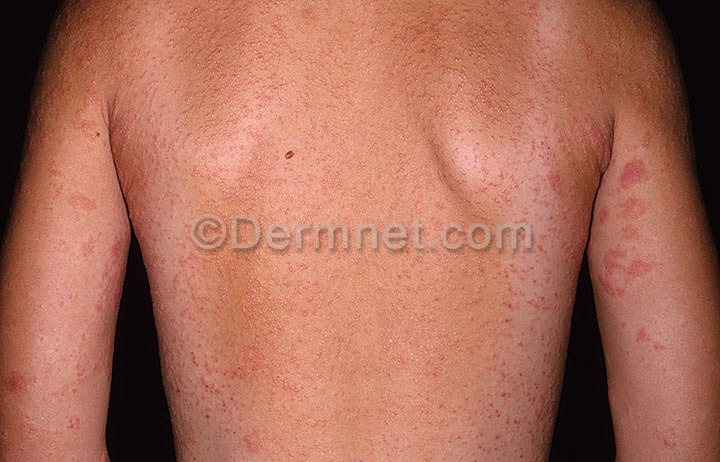Eczema: (168, 1, 567, 462), (2, 10, 146, 459), (578, 16, 709, 462)
